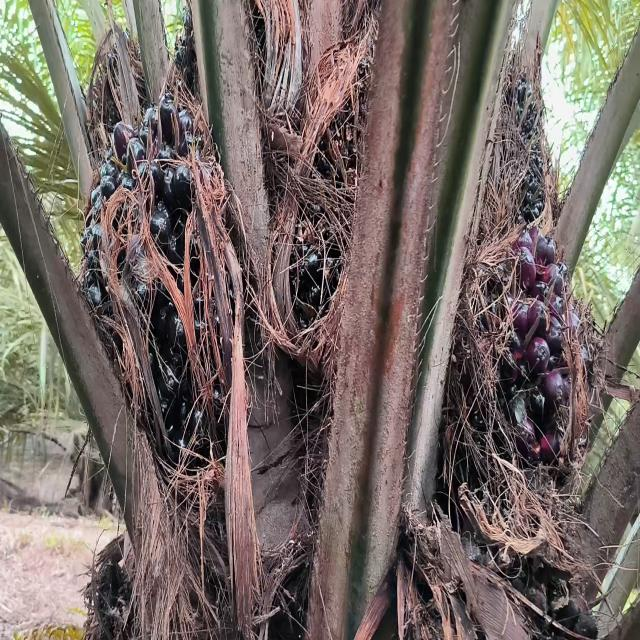palm-oil: (75, 113, 236, 497), (434, 230, 602, 553), (272, 227, 376, 434), (477, 73, 560, 233)
